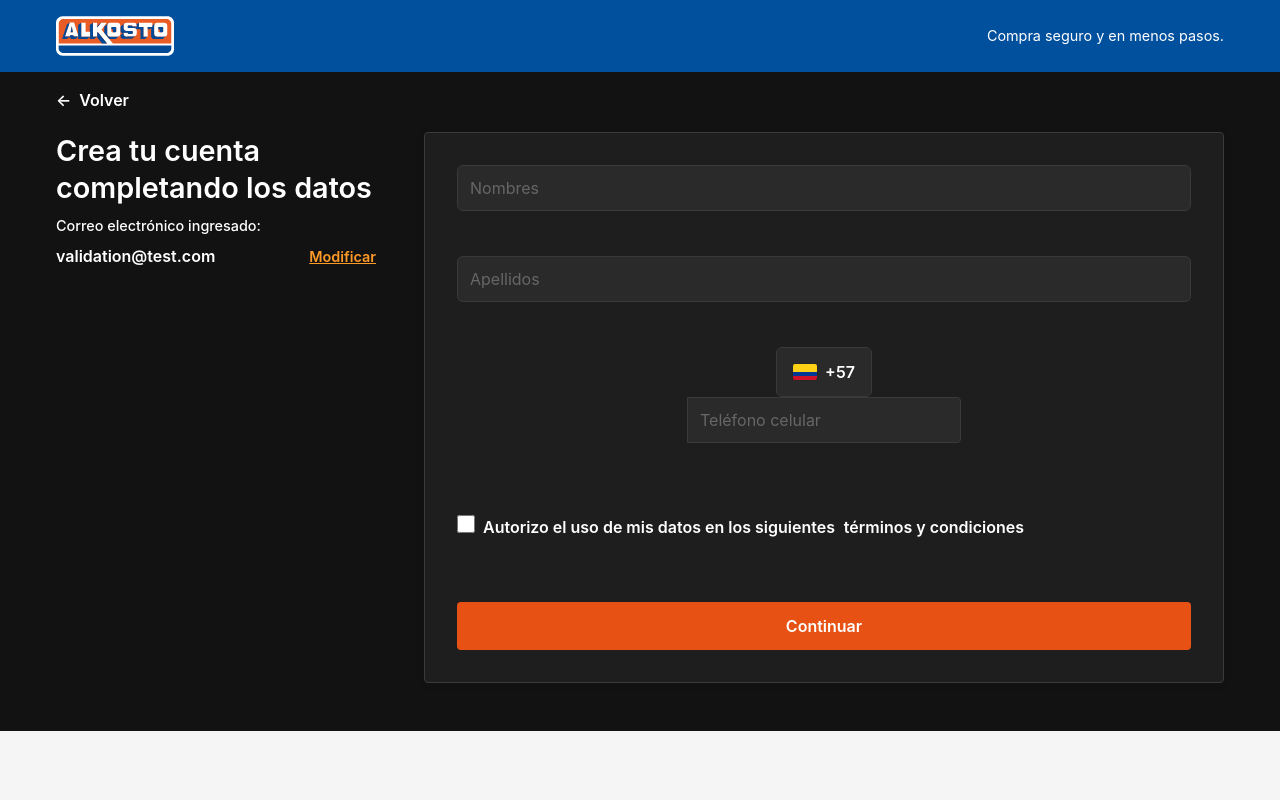
it: RF01 - REGISTRAR USUARIO - Pruebas E2E Completas › 2. Validaciones de Campos Requeridos › 2.2 Muestra error cuando el apellido está vacío
Step 1. Type "Nombre" into the field named "firstName" → (824, 188), box [457,165,1191,211]
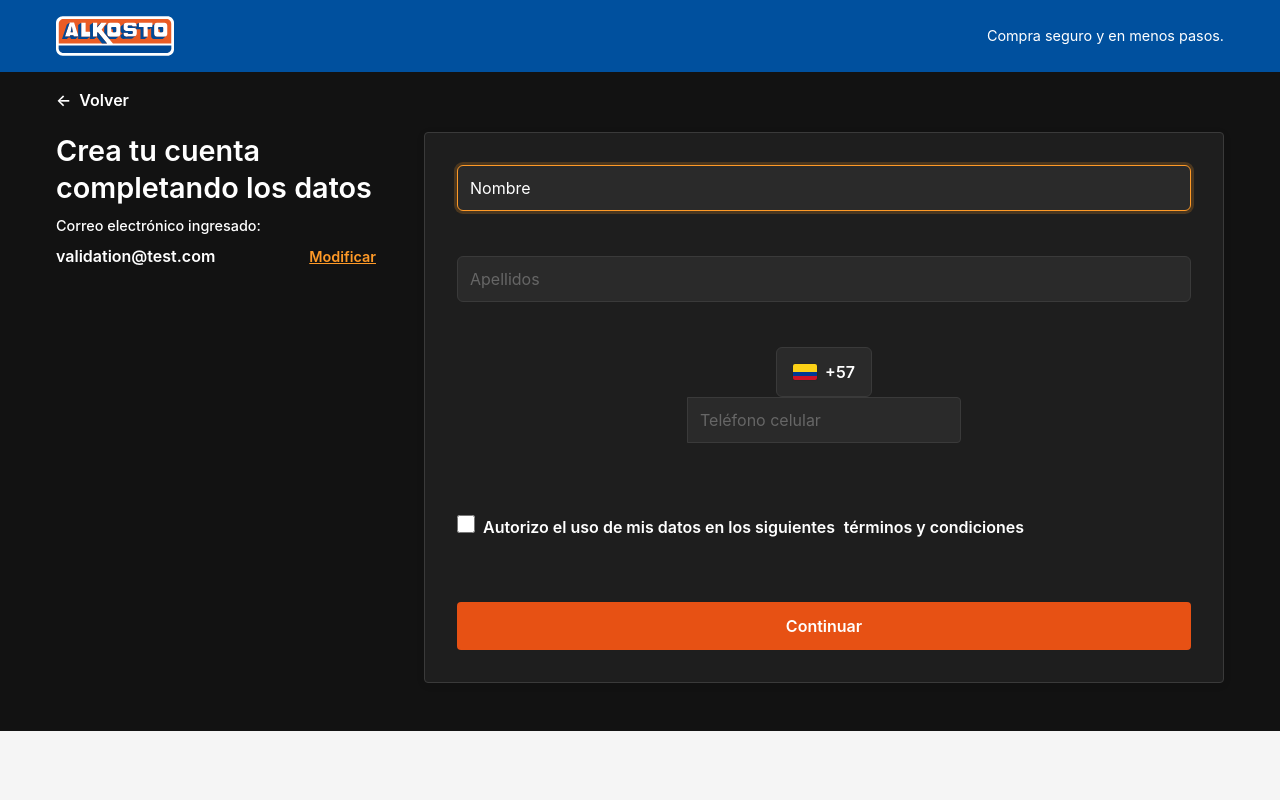
Dejar apellidos vacío
Step 2. Type "3001234567" into the field named "phone" → (824, 420), box [687,397,961,443]
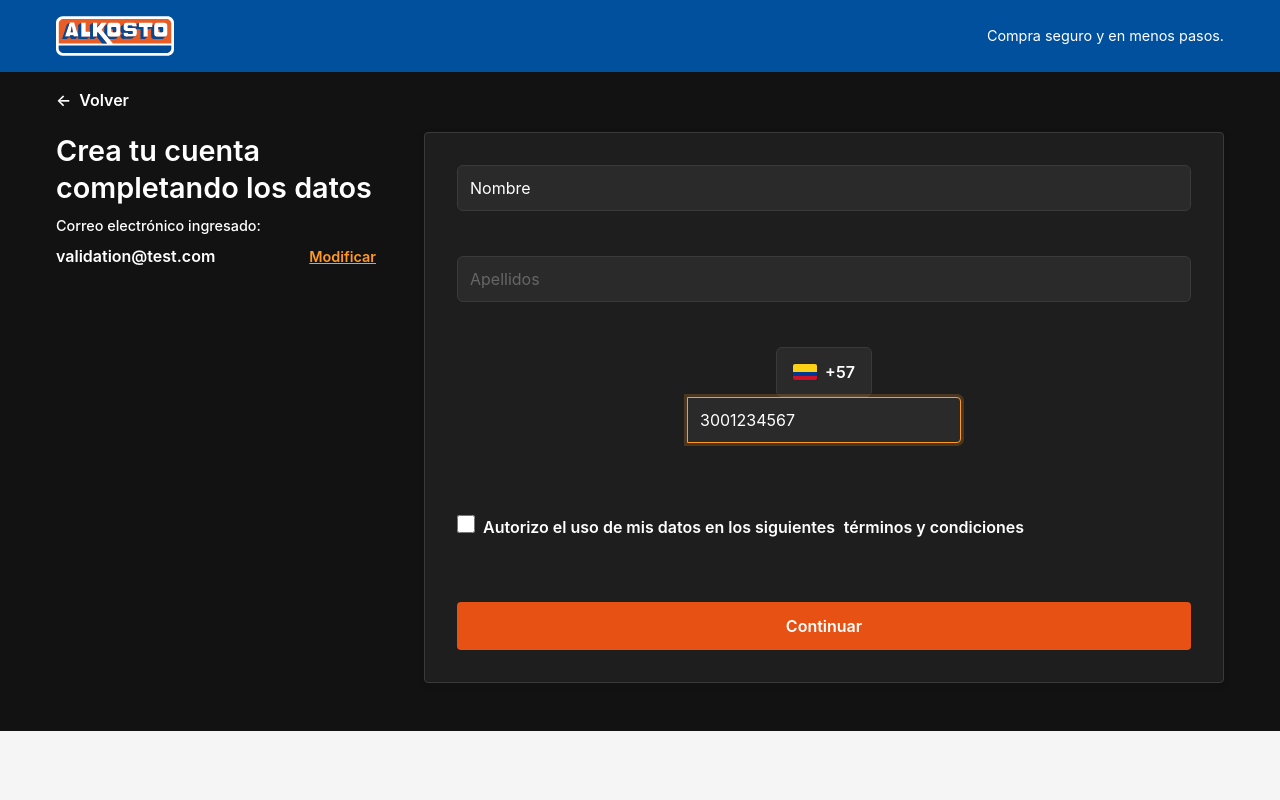
Step 3. Check the checkbox named "agreeTerms" → (466, 524), box [457,515,475,533]
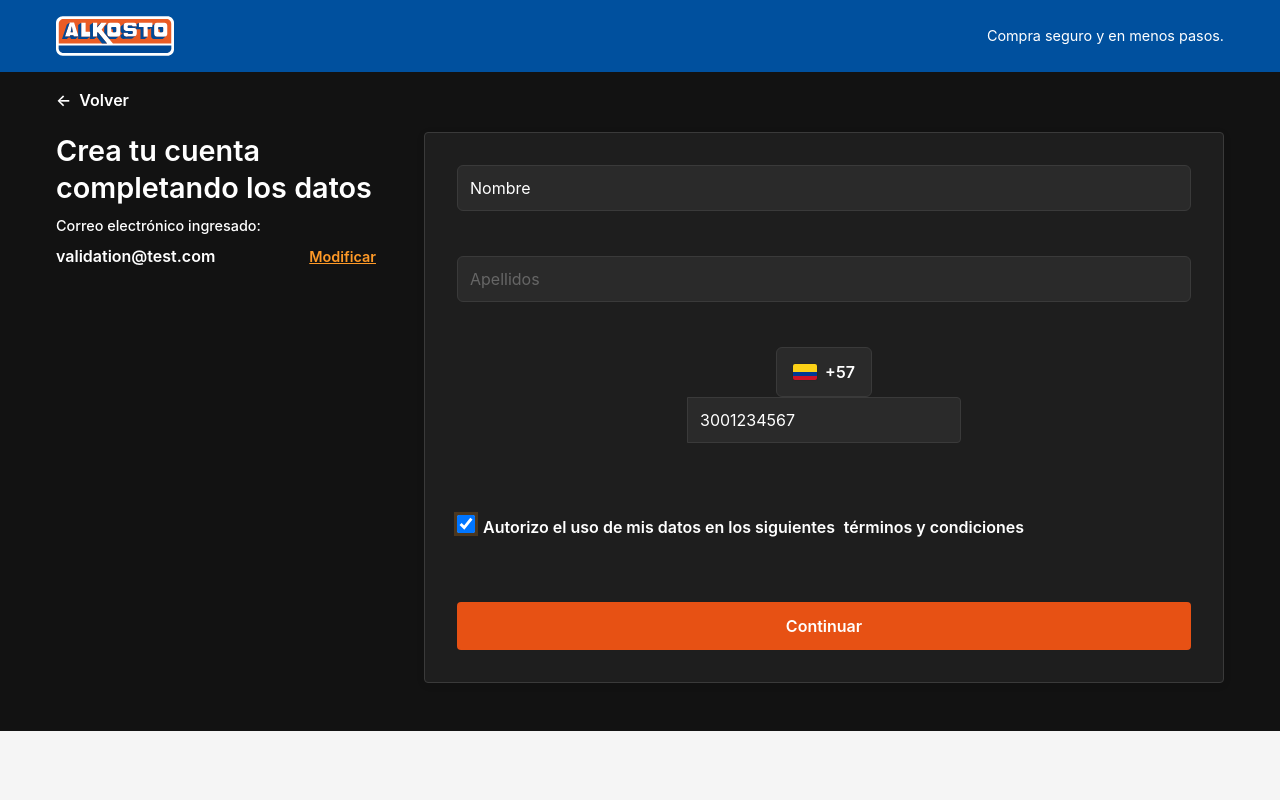
Step 4. Click the button with class "continue-button" → (824, 626), box [457,602,1191,650]
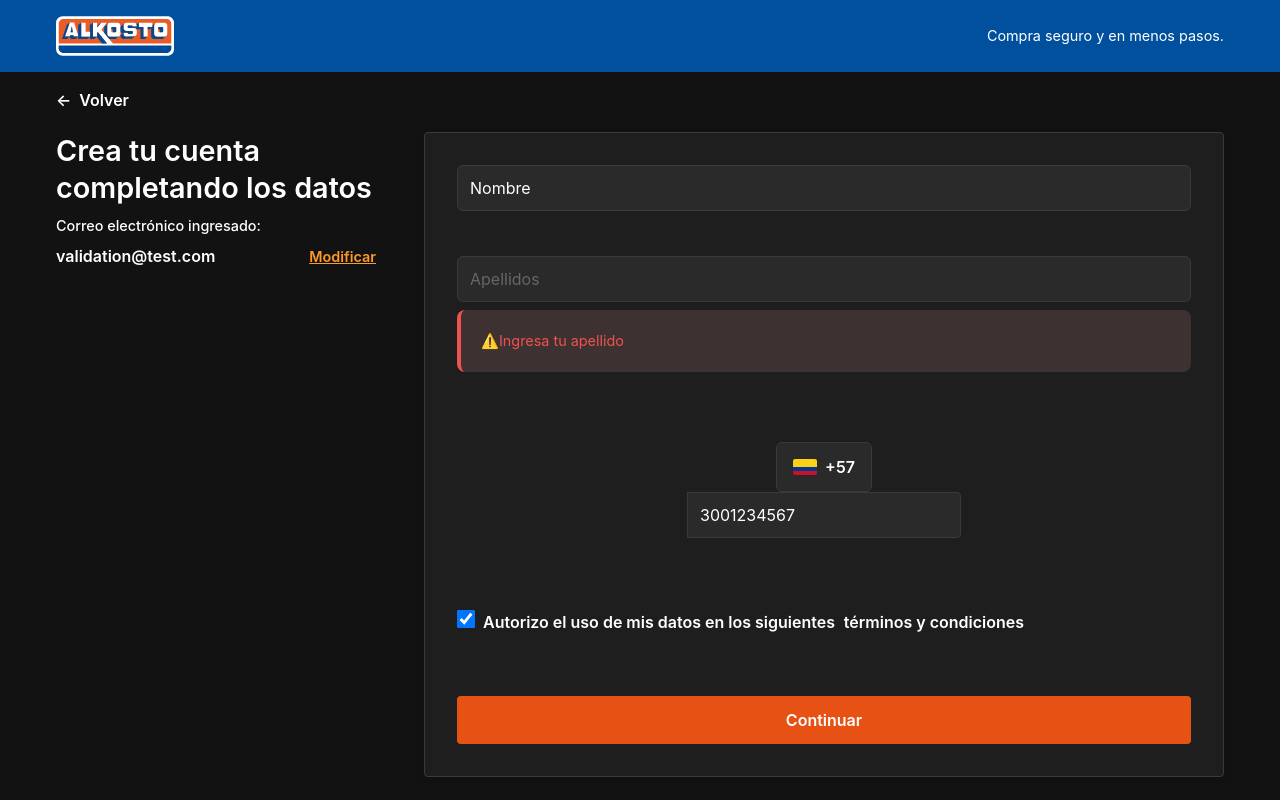
Result: the text "Ingresa tu apellido" is shown at [457,310,1191,372]
